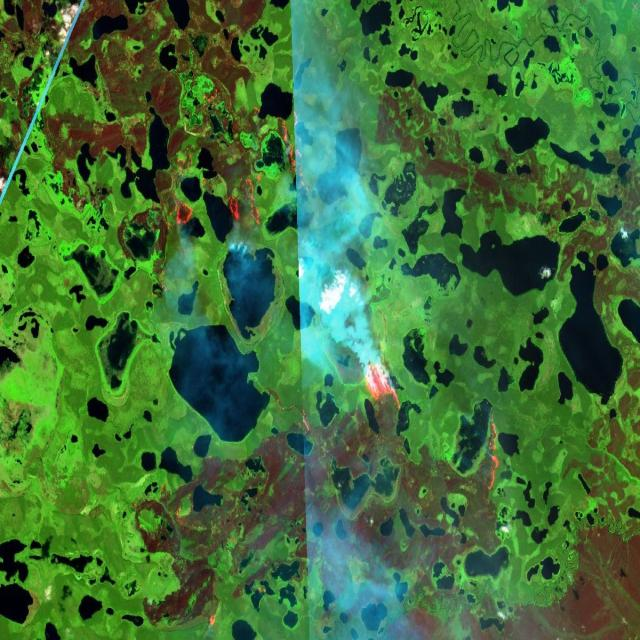fire: (161, 85, 304, 241), (358, 350, 409, 436), (478, 411, 503, 493)
